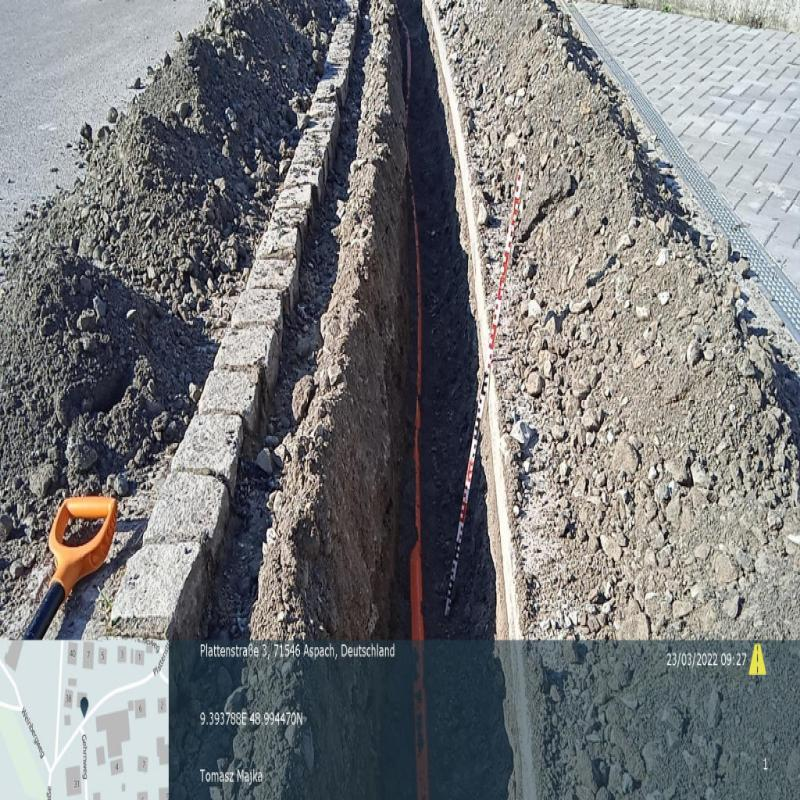Orang-Speednetrohrchen: (409, 251, 426, 715)
